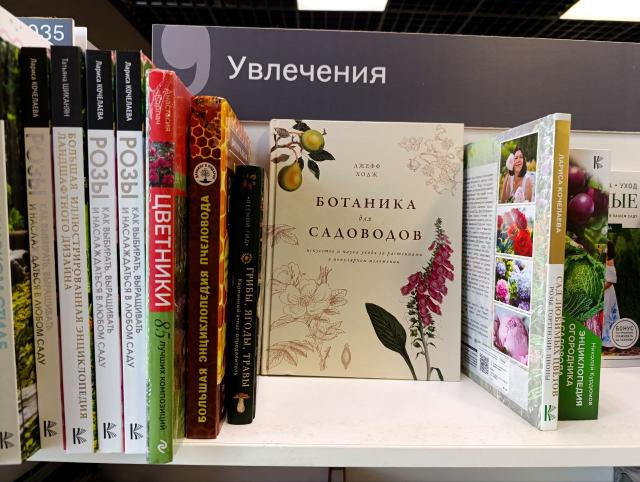book-s-spine: (51, 45, 95, 454), (21, 47, 64, 451), (86, 50, 123, 453), (558, 148, 612, 421), (116, 50, 147, 455), (186, 96, 222, 439), (146, 69, 174, 464), (541, 113, 572, 431), (227, 165, 264, 425)
